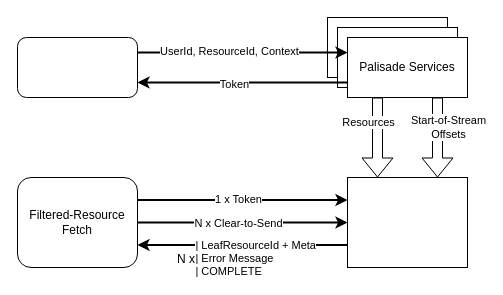
The diagram is 503 pixels wide and 295 high, and some of its shapes have lost their labels. The shapes that lost their labels are listed below. From the top down, each one's centre as x and y in pixels, then its label:
the point at 77,67: Palisade Query
the point at 407,222: Filtered-Resource Service
